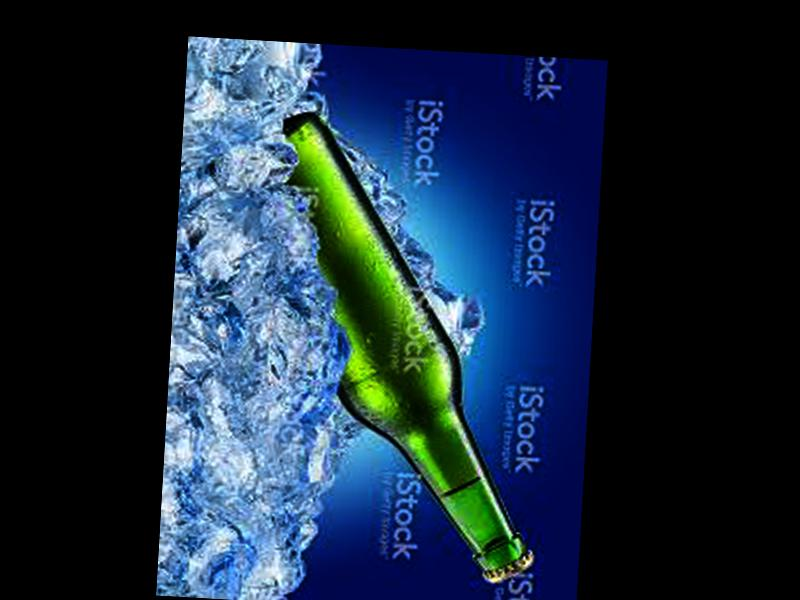Beer: (257, 109, 561, 590)
